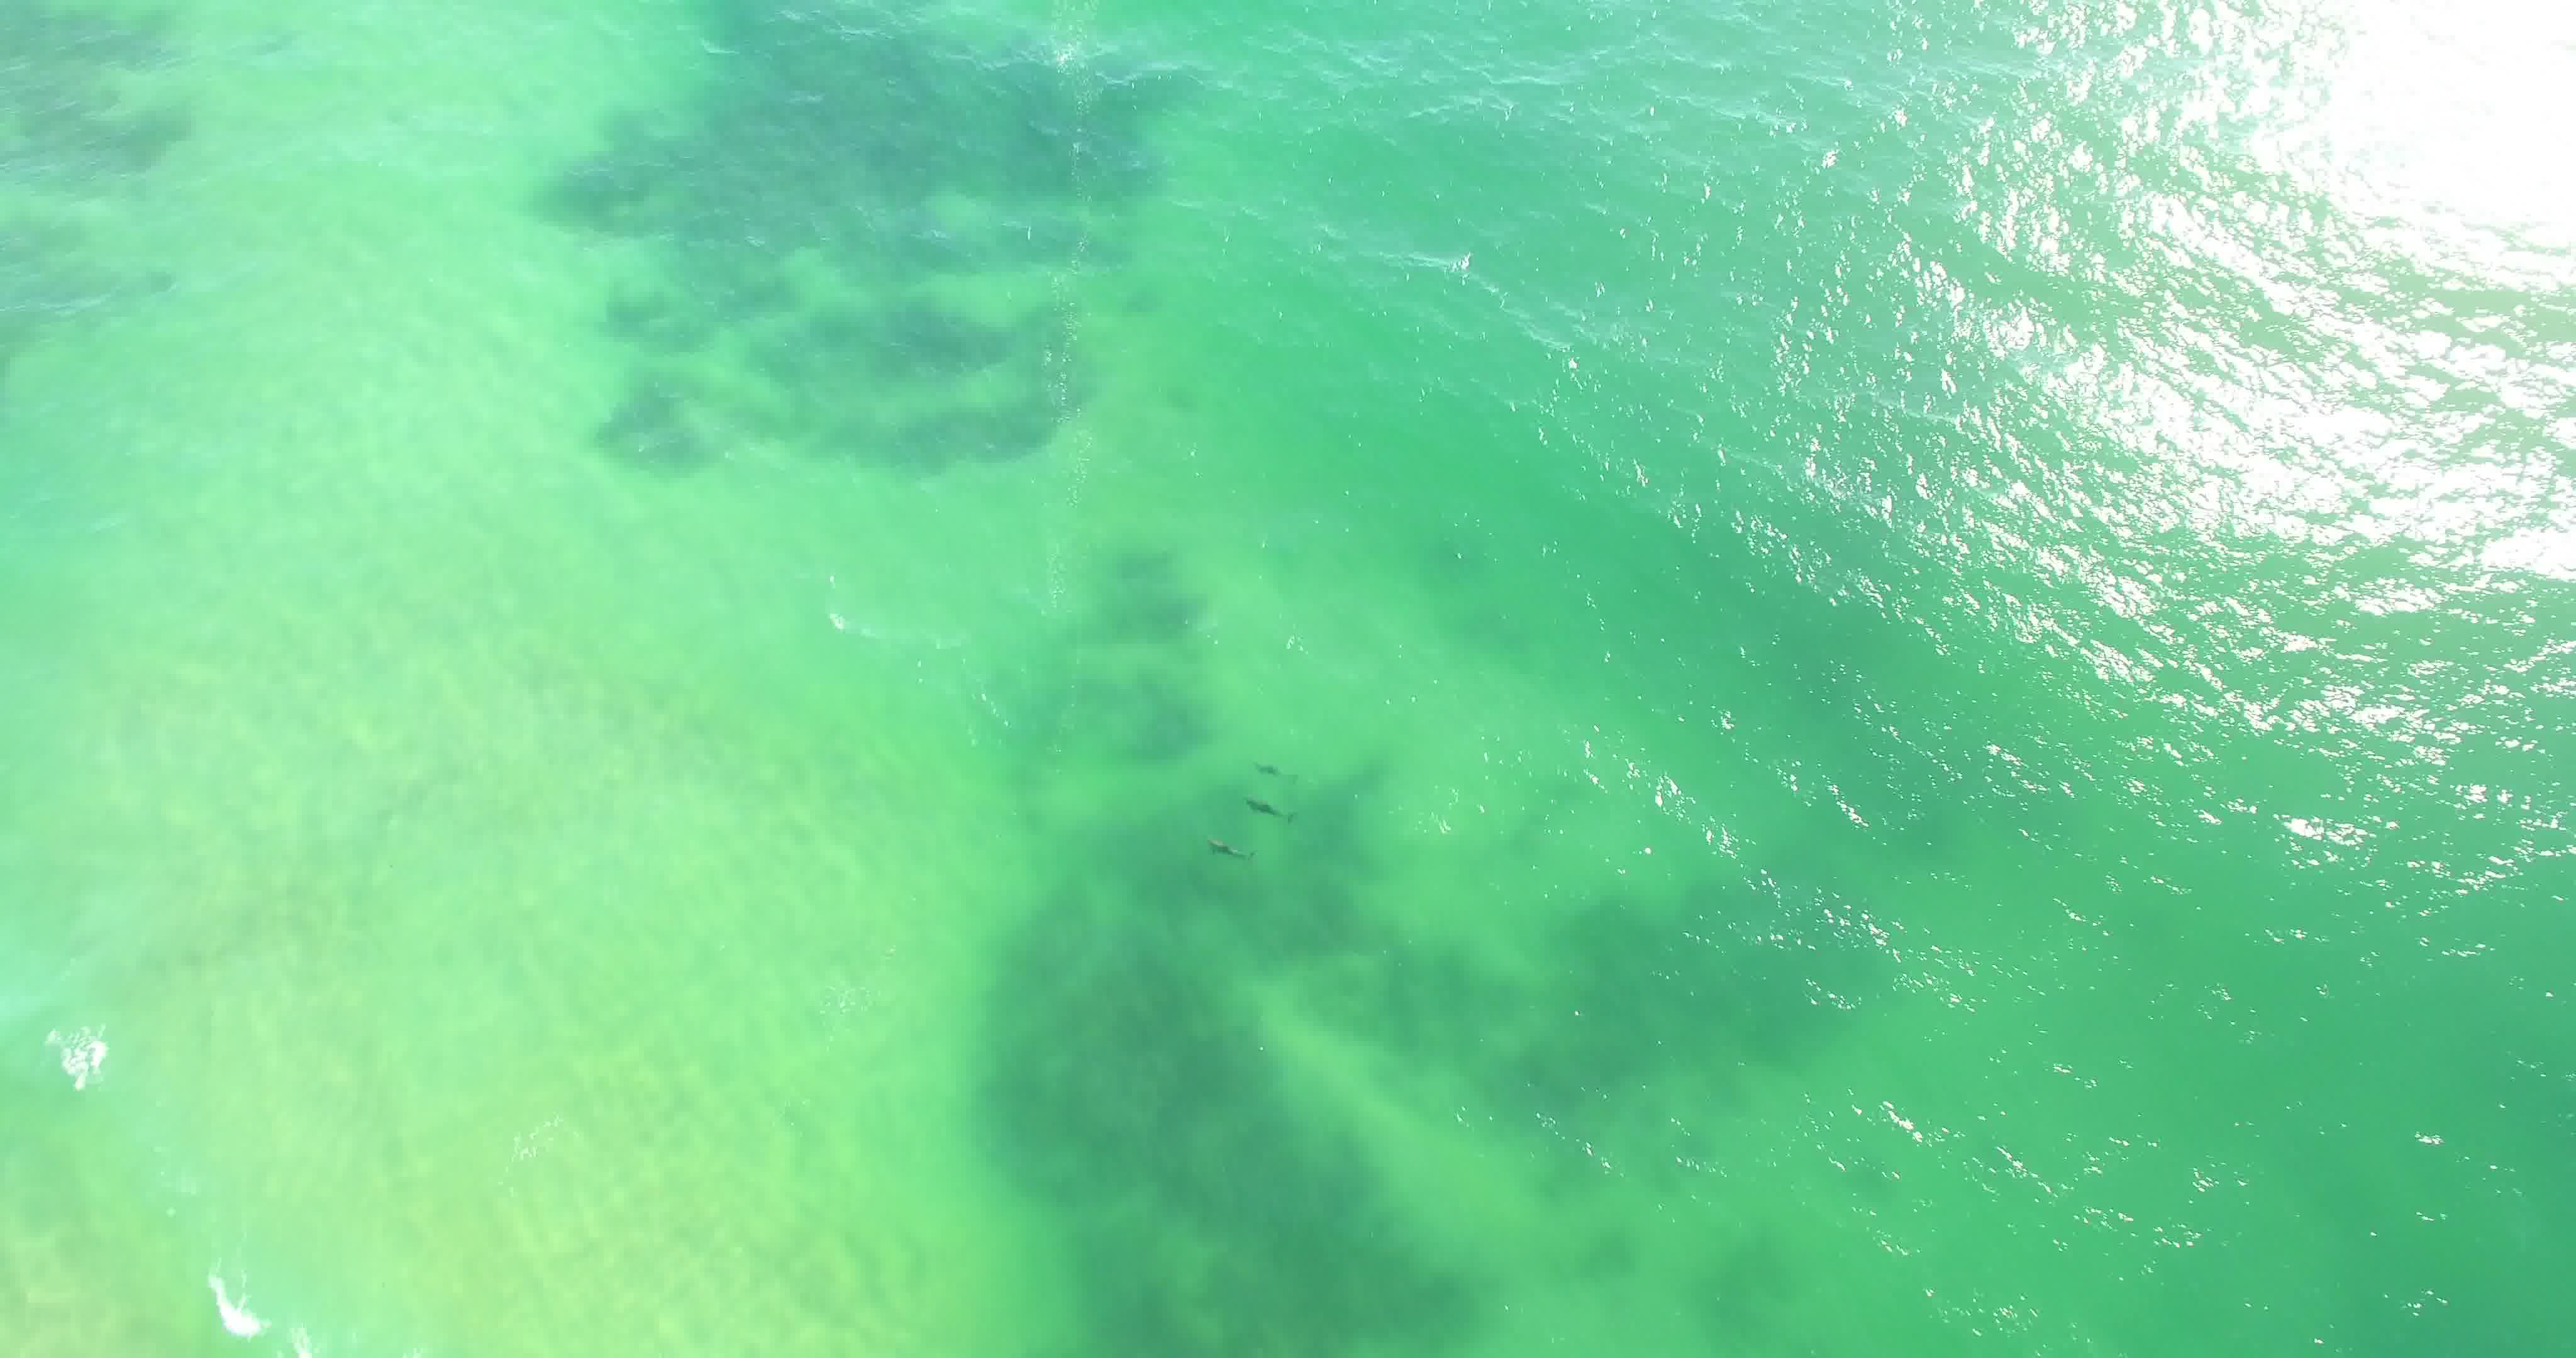dolphin: (1227, 787, 1300, 828), (1240, 751, 1310, 794), (1187, 828, 1259, 867)
